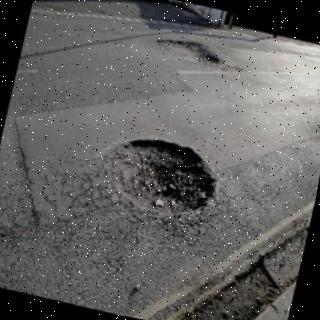pothole: (109, 140, 216, 210)
